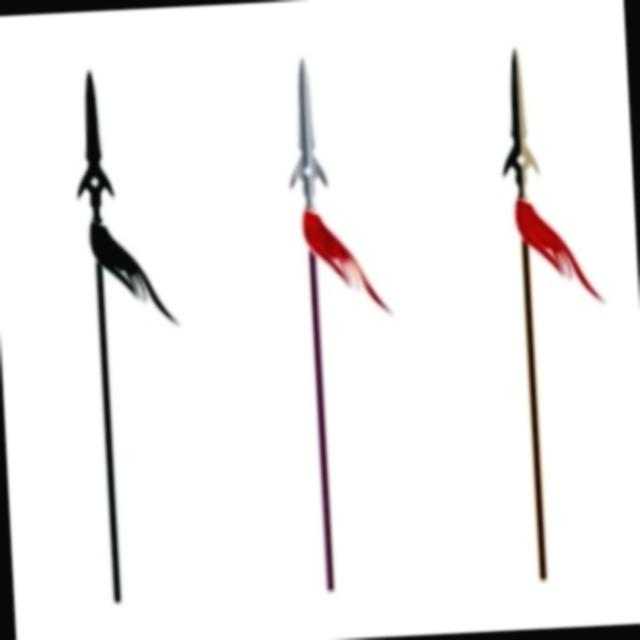spear: (231, 41, 428, 614), (14, 48, 202, 625), (458, 16, 624, 602)
